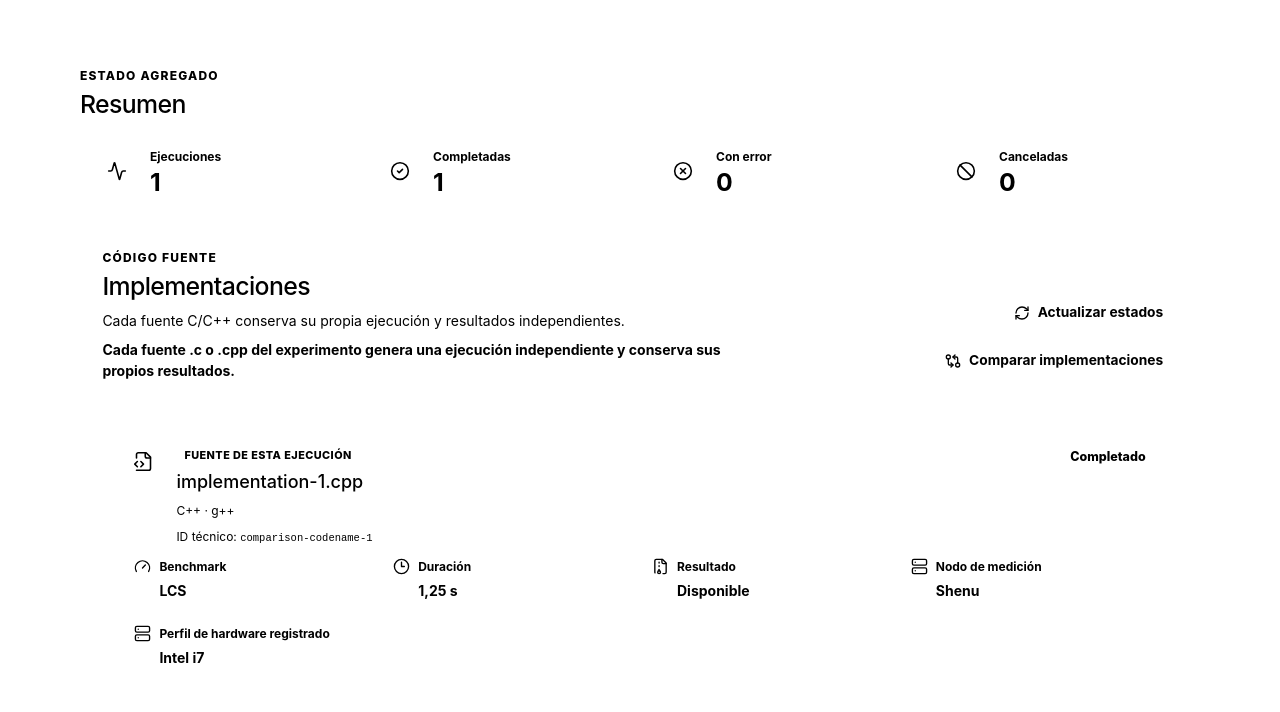
SubmissionOverviewPage › more than four eligible executions starts without an arbitrary selection
(page scrolled)
Click the button "Comparar implementaciones": (1054, 361) [931,341,1178,381]
(page scrolled)
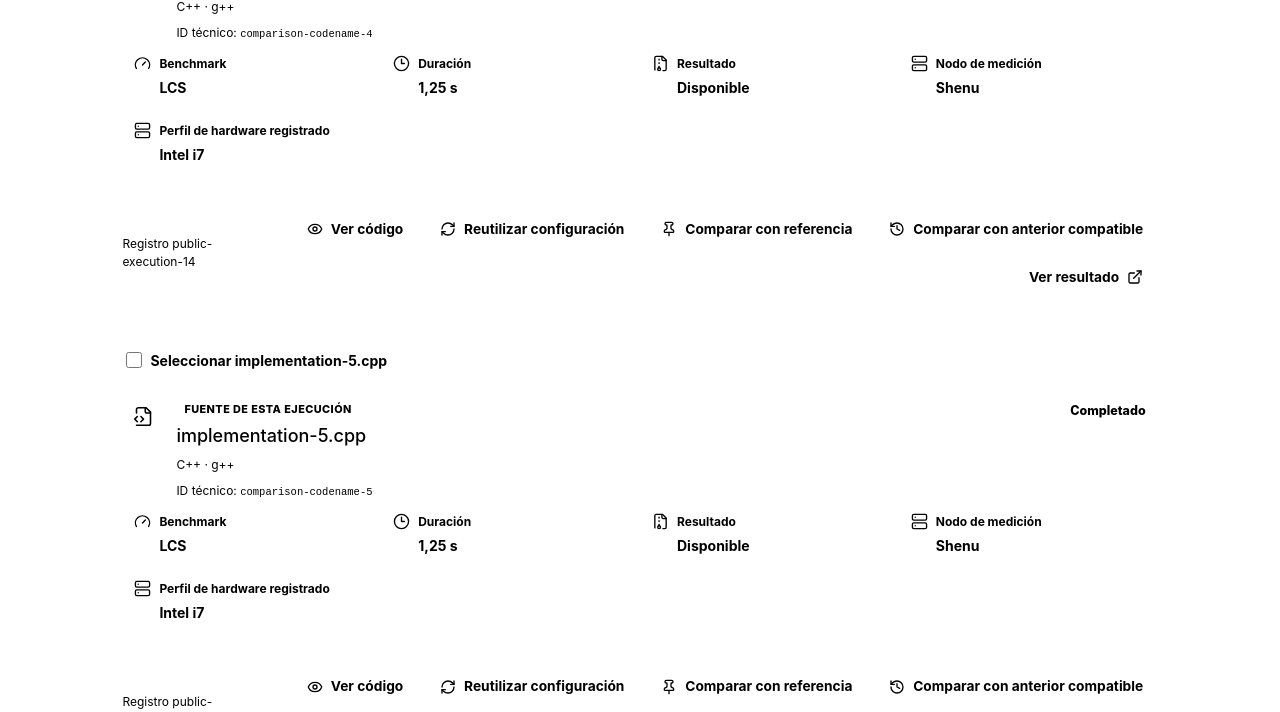
Expected: the checkbox labelled "Seleccionar implementation-5.cpp" is not checked, [126,352,142,368]
